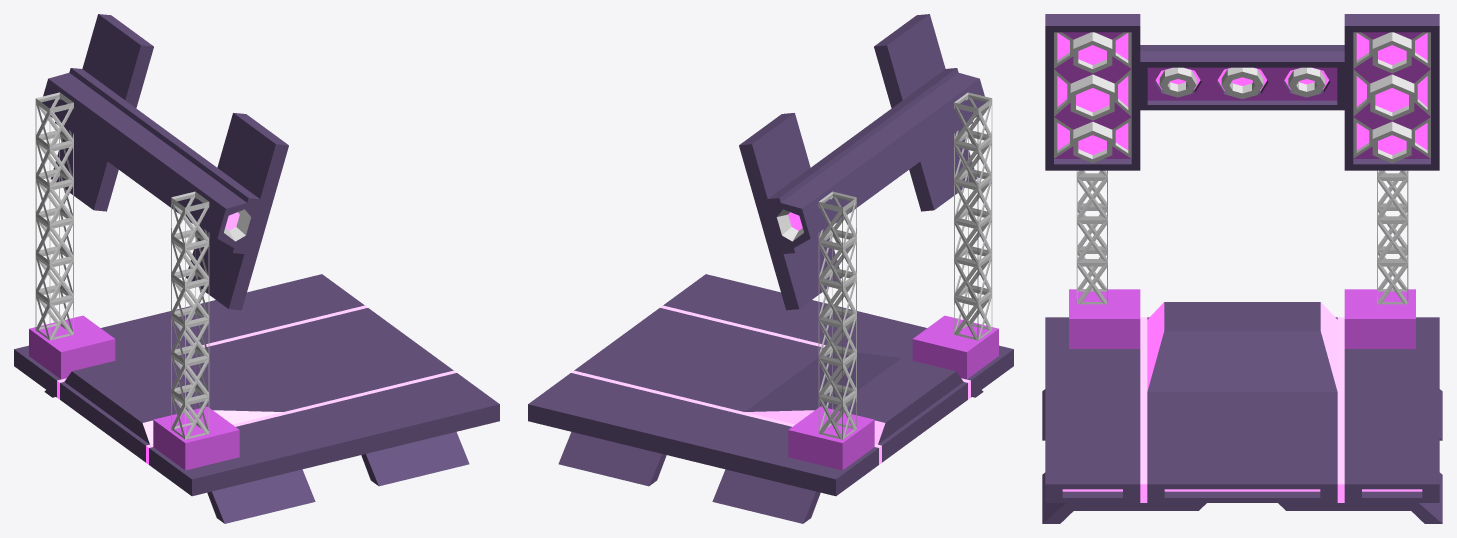
The model's file is Platform_AssestsConcert.fbx.
3 views of the same model, side by side, from view 1: azimuth 30°, elevation 25°; view 2: azimuth 150°, elevation 25°; view 3: azimuth 270°, elevation 25° (orthographic). The views are drawn at different scales.
Visible parts, largest first — view 1: BaseConcert, FocosConcert, Colum; view 2: BaseConcert, FocosConcert, Colum; view 3: BaseConcert, FocosConcert, Colum.
Boxes of the visible parts, left/top/right/bottom form: BaseConcert: left=14, top=274, right=499, bottom=523; FocosConcert: left=42, top=14, right=288, bottom=310; Colum: left=35, top=92, right=209, bottom=439; BaseConcert: left=528, top=274, right=1013, bottom=523; FocosConcert: left=739, top=14, right=985, bottom=310; Colum: left=818, top=92, right=992, bottom=439; BaseConcert: left=1042, top=289, right=1442, bottom=523; FocosConcert: left=1045, top=14, right=1439, bottom=170; Colum: left=1076, top=170, right=1408, bottom=304.
Size of the model in its own units: 2596 by 2947 by 2635.
